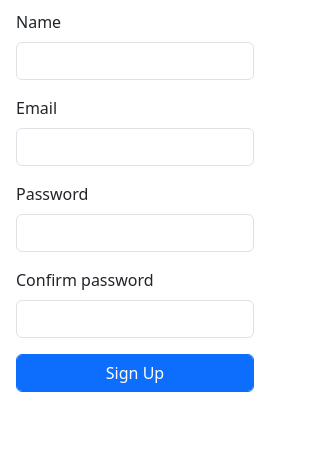
Test case: SignupPageComponent › when user interact with name field › should display error message when field contain more than 20 characters
Type "abcdefghijklmnopqrstuvwxyz" into the field with test id "name" at (135,61), box x1=16 y1=42 x2=254 y2=80
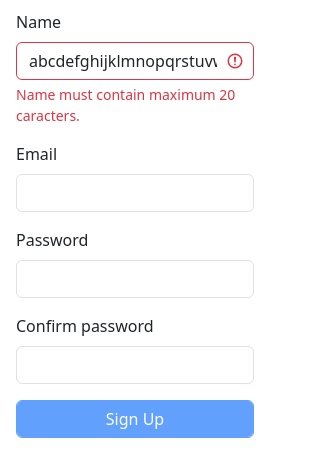
Result: the text with test id "error-name-maxlength" reads "Name must contain maximum 20 caracters." at x1=16 y1=85 x2=235 y2=125
